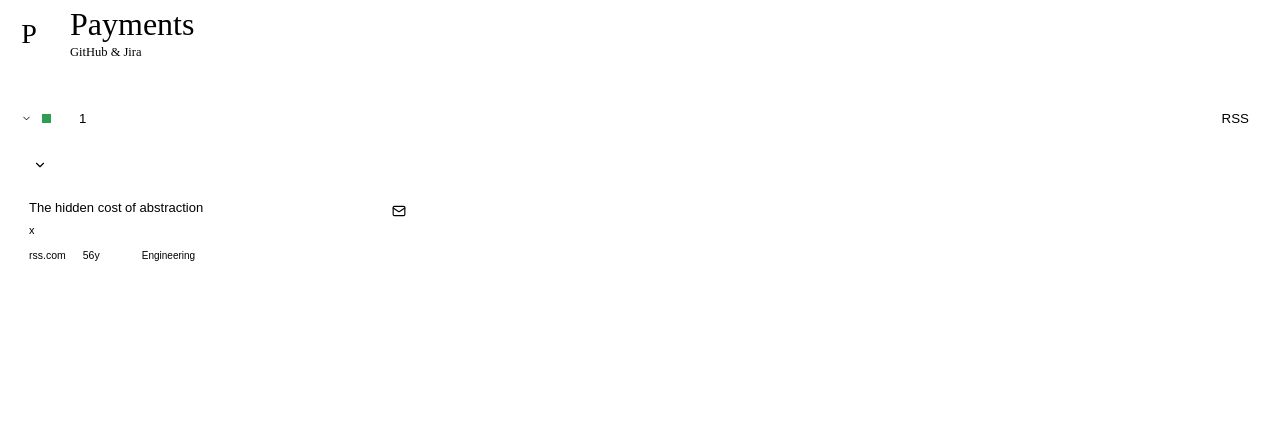
Test case: OverviewPage › an unfiltered feed picker shows every option already checked, matching "All feeds"
Click the button with test id "feed-select".
click(37, 165)  # box [16,154,58,176]
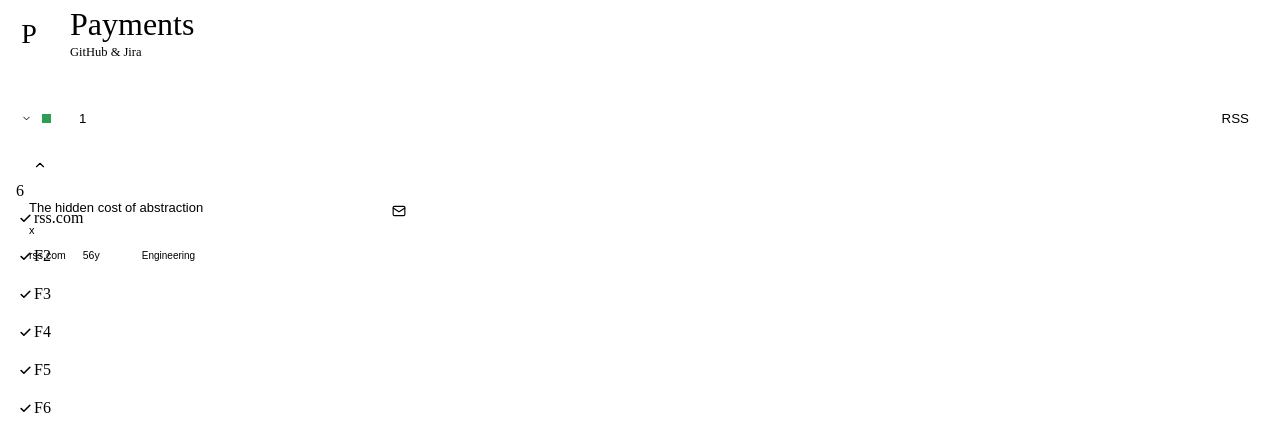
Expected: the number of options with test id "multi-select-option" is 6, [16,200,336,236]; [16,238,336,274]; [16,276,336,312]; [16,314,336,350]; [16,352,336,388]; [16,390,336,426]
